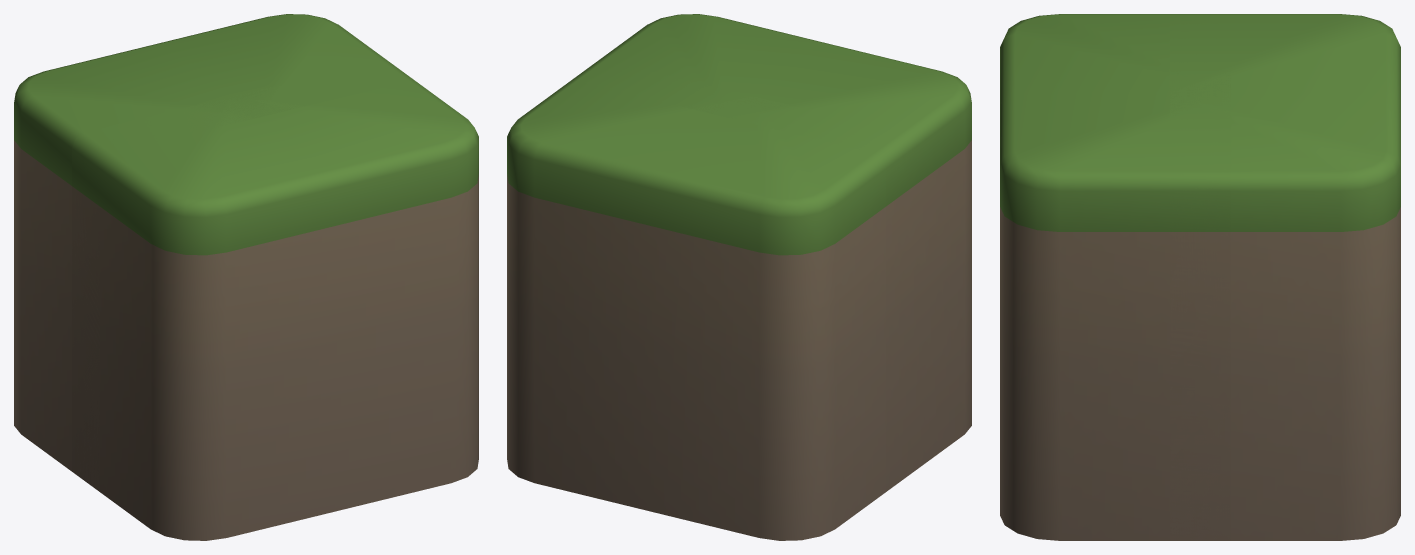
File: grass_allSmooth.fbx
3 views of the same model, side by side, from view 1: azimuth 30°, elevation 25°; view 2: azimuth 150°, elevation 25°; view 3: azimuth 270°, elevation 25° (orthographic). The views are drawn at different scales.
Parts seen in each view (by area): view 1: grassCube_bevelAll; view 2: grassCube_bevelAll; view 3: grassCube_bevelAll.
Boxes of the visible parts, <box> form: grassCube_bevelAll: <box>14,14,478,540</box>; grassCube_bevelAll: <box>507,14,971,540</box>; grassCube_bevelAll: <box>1000,14,1400,540</box>.
Size of the model in its own units: 200 by 200 by 200.
